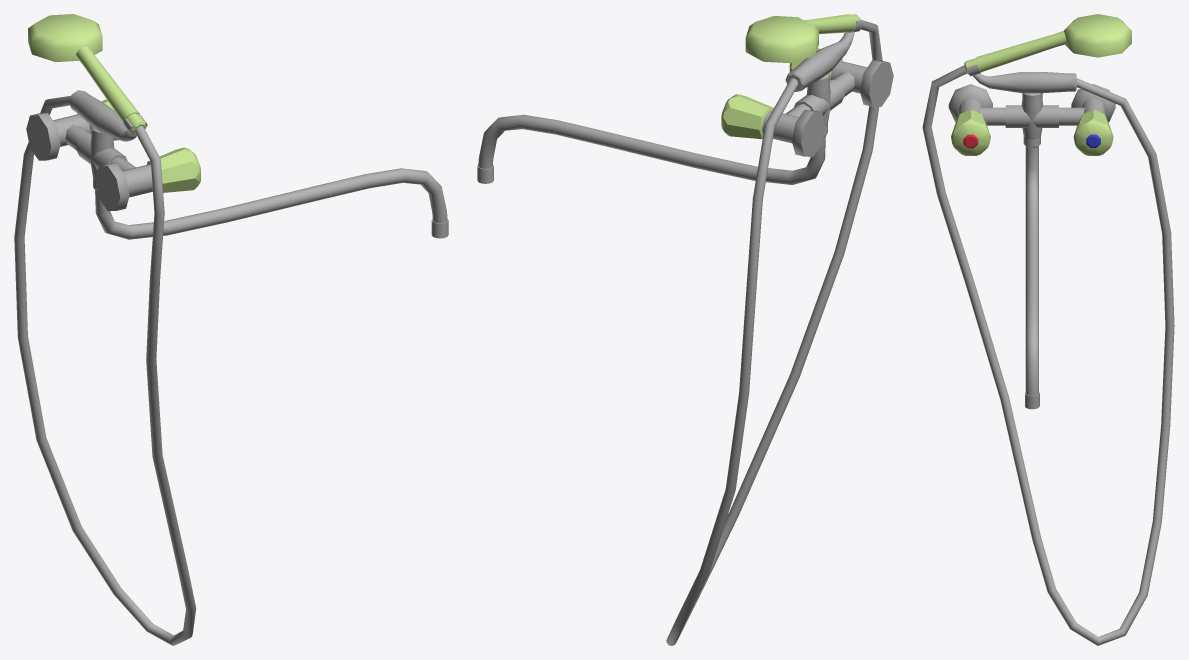
The model's file is Crane.fbx.
3 views of the same model, side by side, from view 1: azimuth 30°, elevation 25°; view 2: azimuth 150°, elevation 25°; view 3: azimuth 270°, elevation 25° (orthographic). The views are drawn at different scales.
Visible parts, largest first — view 1: Crane; view 2: Crane; view 3: Crane.
Part boxes in pixels (x1,y1,x2,y2): Crane: [14, 14, 448, 645]; Crane: [477, 14, 893, 645]; Crane: [922, 14, 1174, 645].
Bounding box in the file's own units: 48.08 × 78.25 × 31.22.
